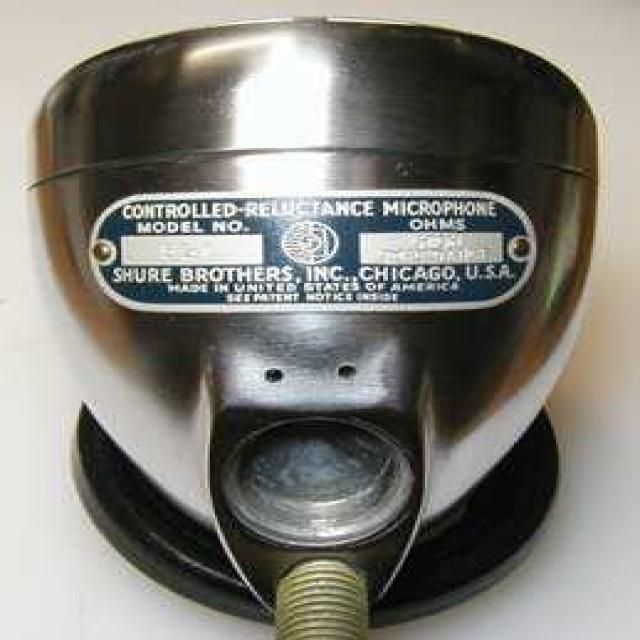microphone: (42, 4, 640, 588)
